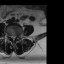CCS_normal: (12, 35, 14, 43)
LFS_severe_stenosis: (16, 34, 18, 38)
LLS_severe_stenosis: (14, 35, 16, 39)
RFS_severe_stenosis: (9, 34, 11, 38)
RLS_stenosis: (11, 34, 12, 40)
